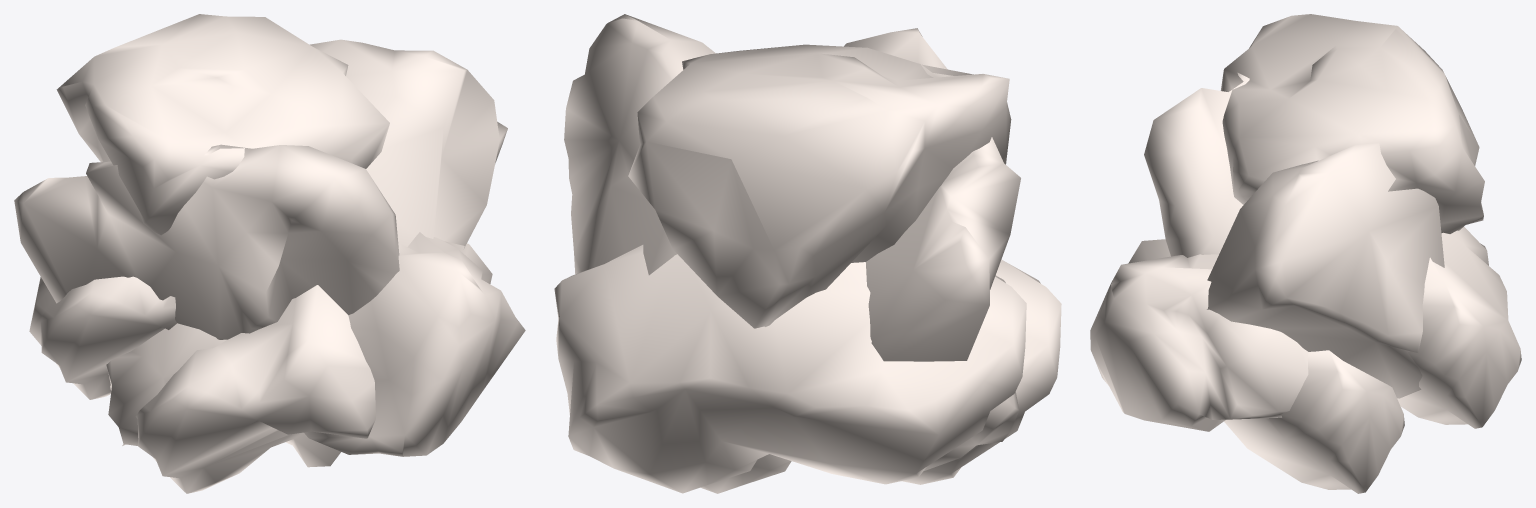
File: island.fbx
3 renders of one model, left to right at view 1: azimuth 30°, elevation 25°; view 2: azimuth 150°, elevation 25°; view 3: azimuth 270°, elevation 25°, orthographic. The views are drawn at different scales.
Parts seen in each view (by area): view 1: Rock_05_LOD2__1_, Rock_03_LOD2__2_, Rock_01_LOD2__1_, Rock_04_LOD2__1_, Rock_03_LOD2__1_, Rock_01_LOD2__2_; view 2: Rock_01_LOD2__2_, Rock_03_LOD2__2_, Rock_05_LOD2__1_, Rock_04_LOD2__1_, Rock_01_LOD2__1_; view 3: Rock_04_LOD2__1_, Rock_03_LOD2__2_, Rock_03_LOD2__1_, Rock_01_LOD2__2_, Rock_01_LOD2__1_, Rock_05_LOD2__1_.
Boxes of the visible parts, <box> form: Rock_05_LOD2__1_: <box>14,144,399,339</box>; Rock_03_LOD2__2_: <box>56,14,389,235</box>; Rock_01_LOD2__1_: <box>135,285,375,493</box>; Rock_04_LOD2__1_: <box>106,39,507,445</box>; Rock_03_LOD2__1_: <box>304,232,525,456</box>; Rock_01_LOD2__2_: <box>29,276,176,399</box>; Rock_01_LOD2__2_: <box>554,245,1026,493</box>; Rock_03_LOD2__2_: <box>628,44,1011,328</box>; Rock_05_LOD2__1_: <box>844,28,1020,361</box>; Rock_04_LOD2__1_: <box>564,14,1019,470</box>; Rock_01_LOD2__1_: <box>700,259,1061,493</box>; Rock_04_LOD2__1_: <box>1207,143,1444,398</box>; Rock_03_LOD2__2_: <box>1220,14,1484,233</box>; Rock_03_LOD2__1_: <box>1090,254,1308,431</box>; Rock_01_LOD2__2_: <box>1397,227,1521,428</box>; Rock_01_LOD2__1_: <box>1128,239,1404,493</box>; Rock_05_LOD2__1_: <box>1144,72,1249,257</box>.
Size of what is drawn, in the model's own units: 648 by 602 by 612.
